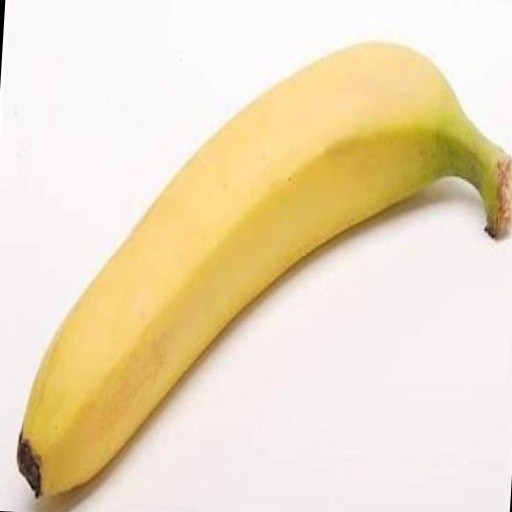fruit: (17, 43, 512, 495)
